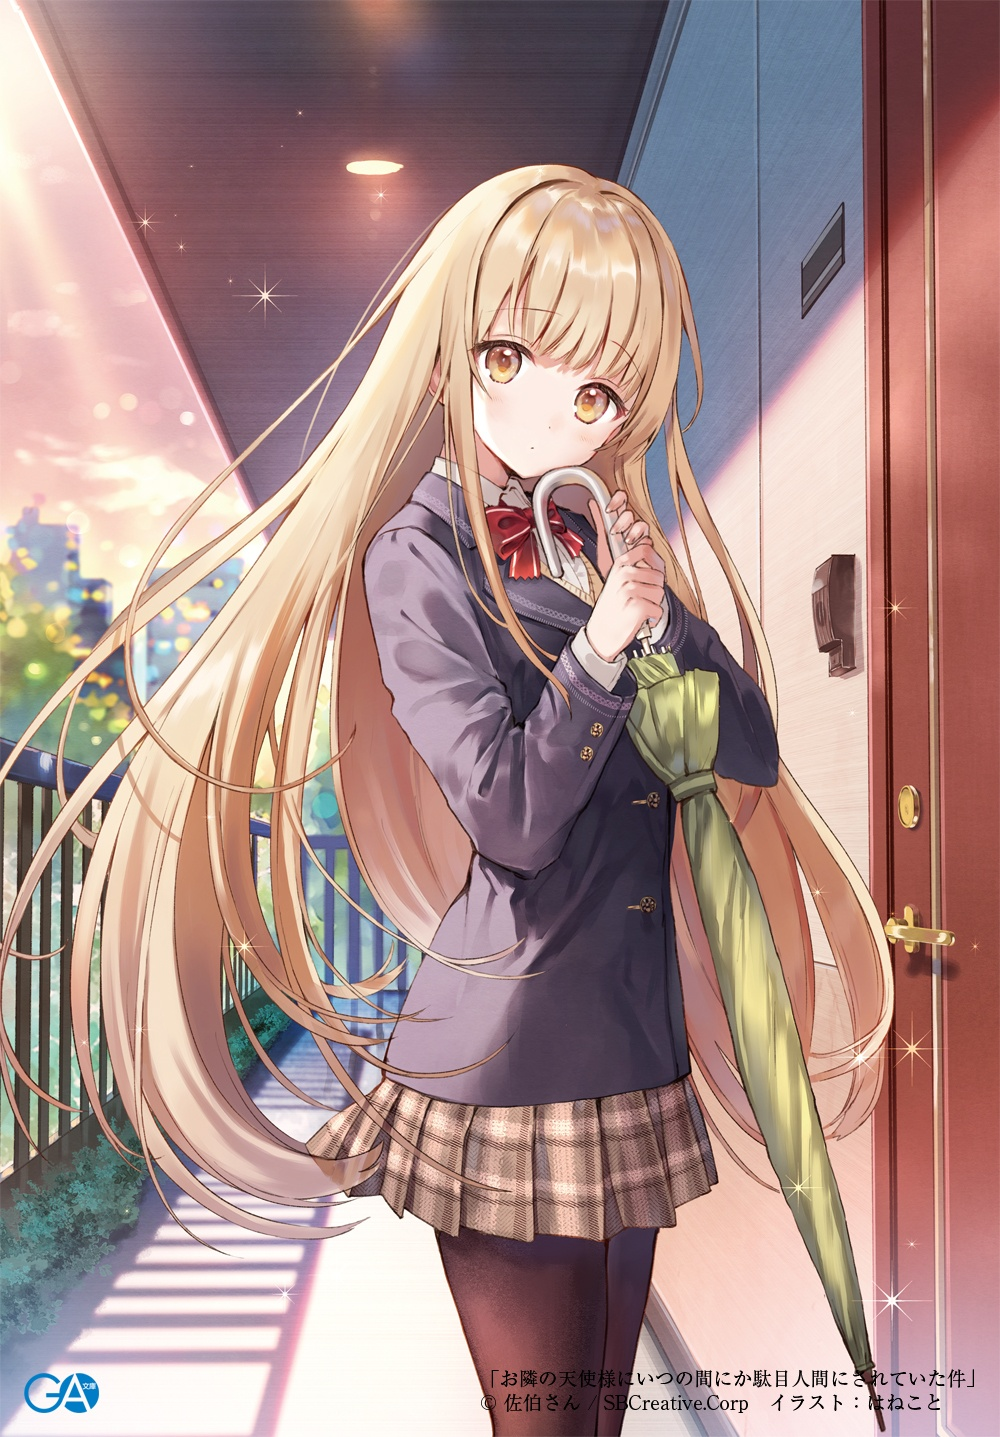纸片人正脸: (382, 154, 701, 488)
